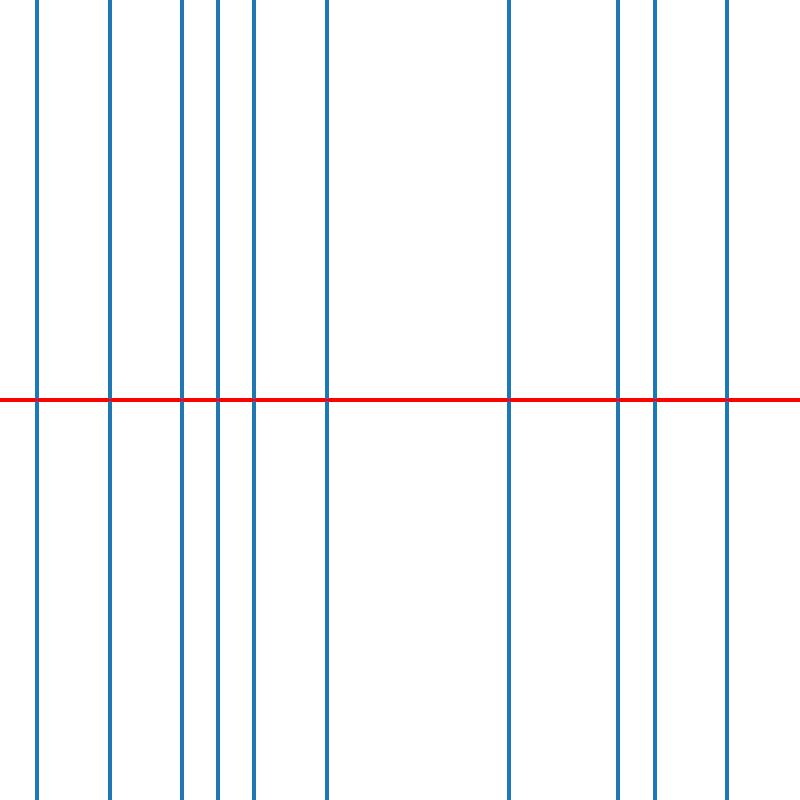root: (250, 396, 258, 404), (650, 396, 658, 404), (32, 396, 40, 404), (505, 396, 512, 404), (214, 396, 221, 404), (323, 396, 330, 404), (105, 396, 112, 404), (178, 396, 185, 404), (614, 396, 621, 404), (723, 396, 730, 404)
